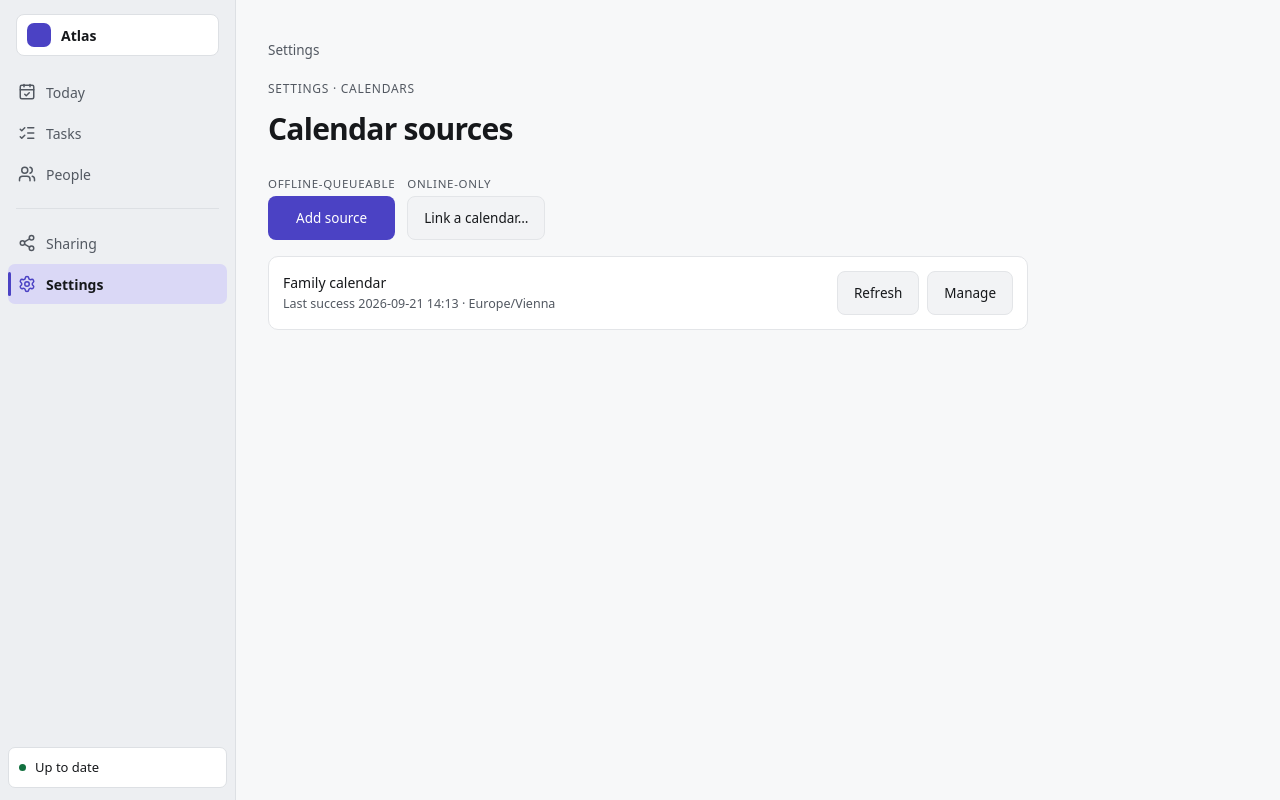
Scenario: Manage: queued settings (D-13a-8, D-13a-12) › Save queues a configure built on the outbox's base, with timezone and enabled only; the row then says it is queued
Check: the heading "Calendar sources" is shown, box [268, 108, 513, 149]
Click the button with aria-label "Manage Family calendar" at (970, 293), box [927, 271, 1013, 315]
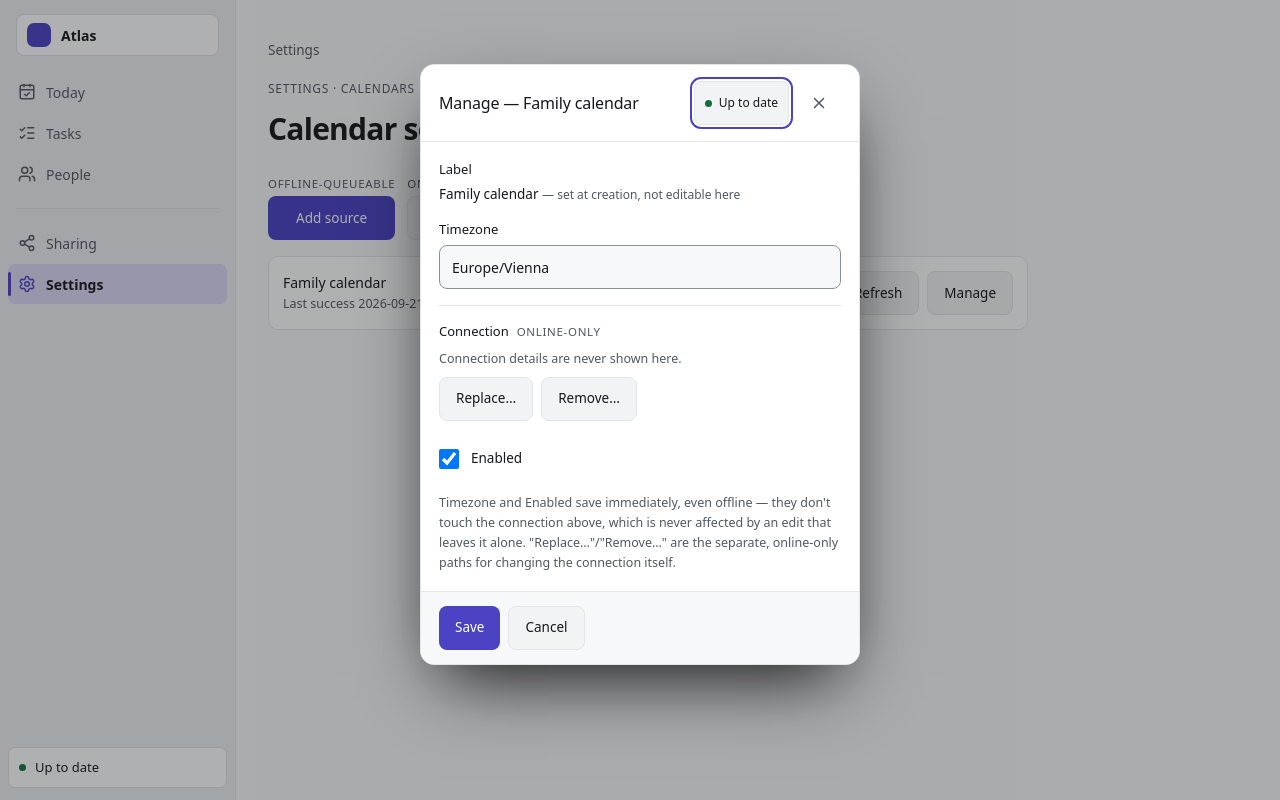
Replace the text in the field labelled "Timezone" with "Europe/London" at (640, 267), box [439, 245, 841, 289]
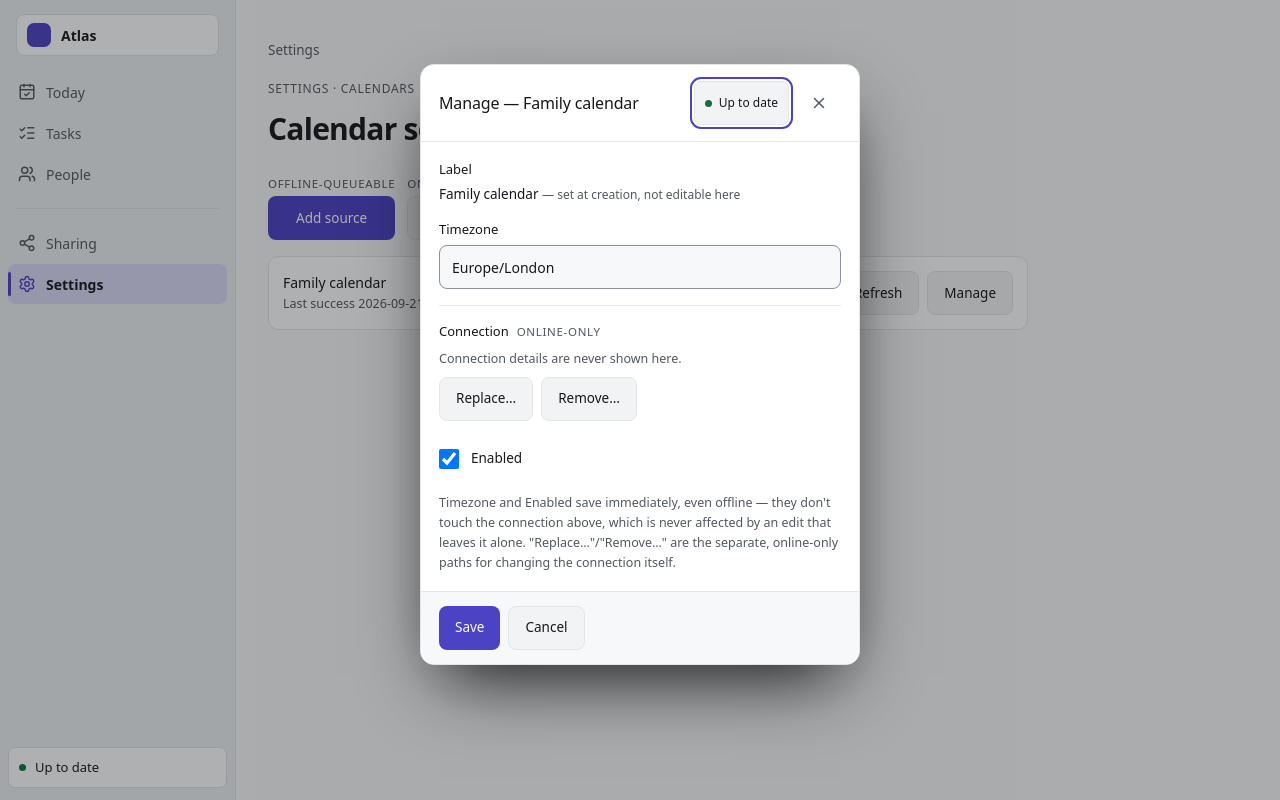
Click the checkbox labelled "Enabled" at (449, 458), box [439, 448, 459, 468]
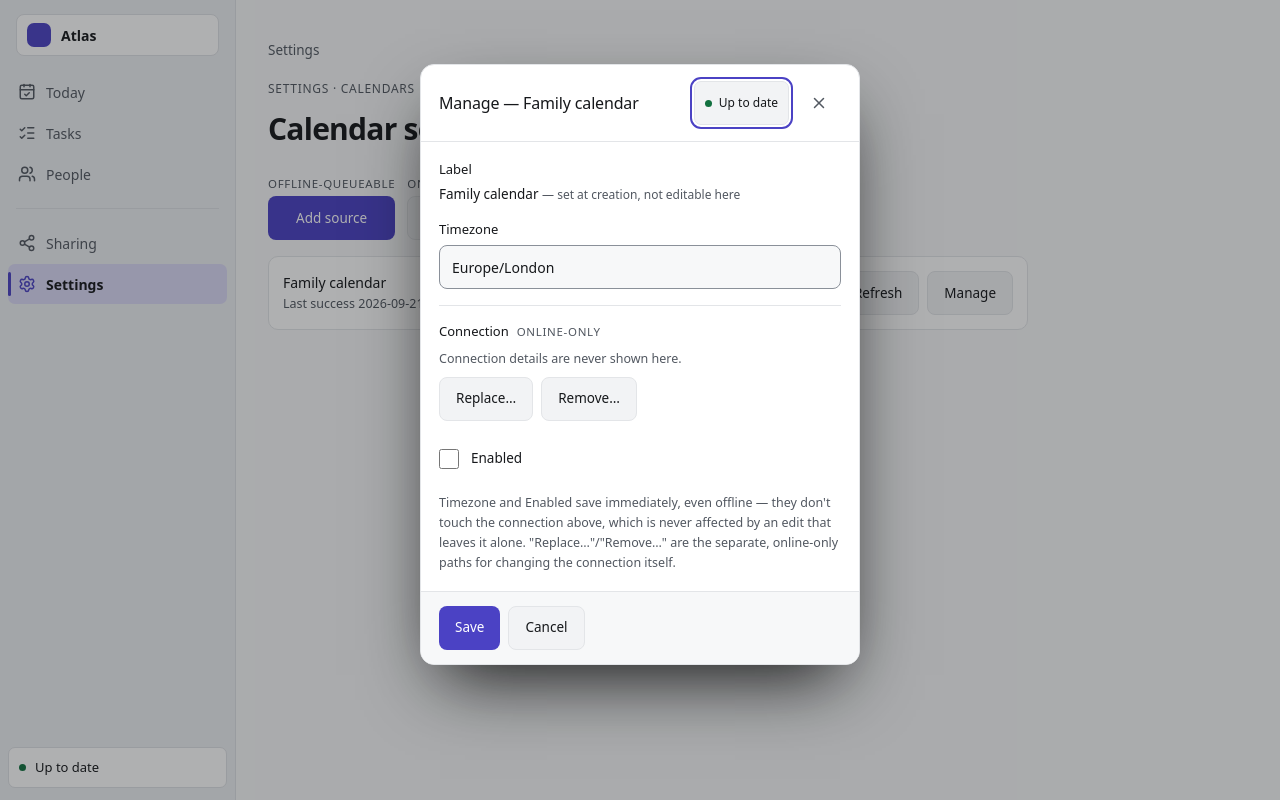
Click the button "Save" at (470, 628), box [439, 606, 500, 650]
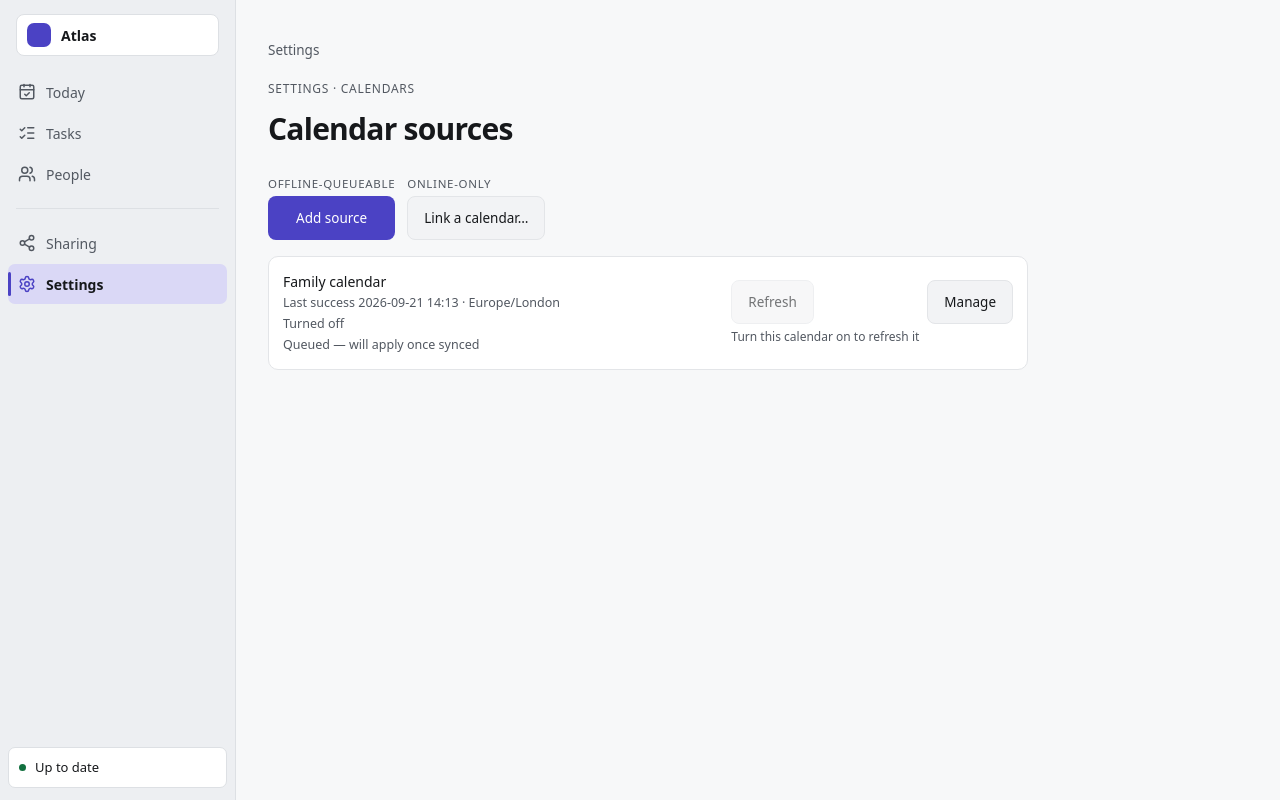
Check: the dialog is gone
Check: the list item "Family calendar" shows "Queued — will apply once synced", box [283, 336, 479, 353]
Check: the list item "Family calendar" shows "Turned off", box [283, 315, 344, 332]
Note: A queued change blocks the online connection changes until it is sent or discarded.
Click the button "Manage" at (970, 302), box [927, 280, 1013, 324]
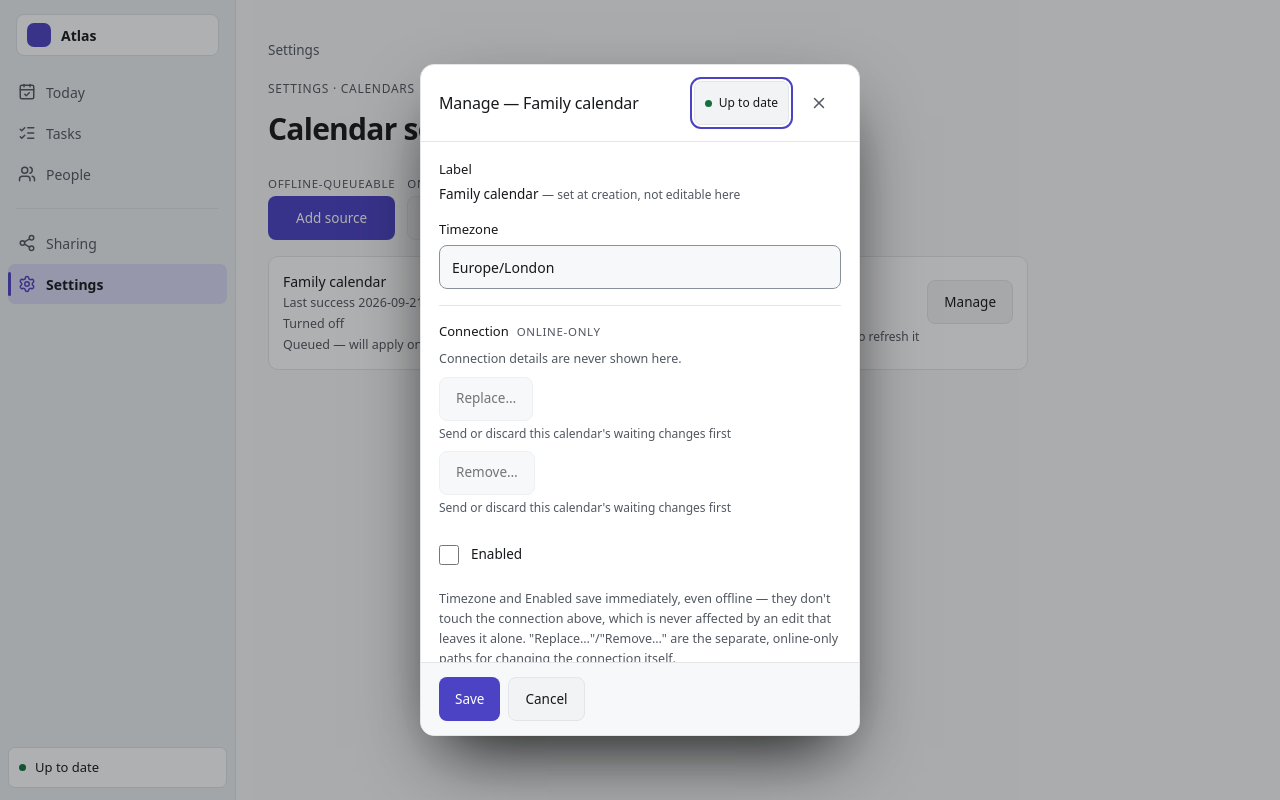
Check: the 1st text "Send or discard this calendar's waiting changes first" is shown, box [439, 424, 731, 442]
